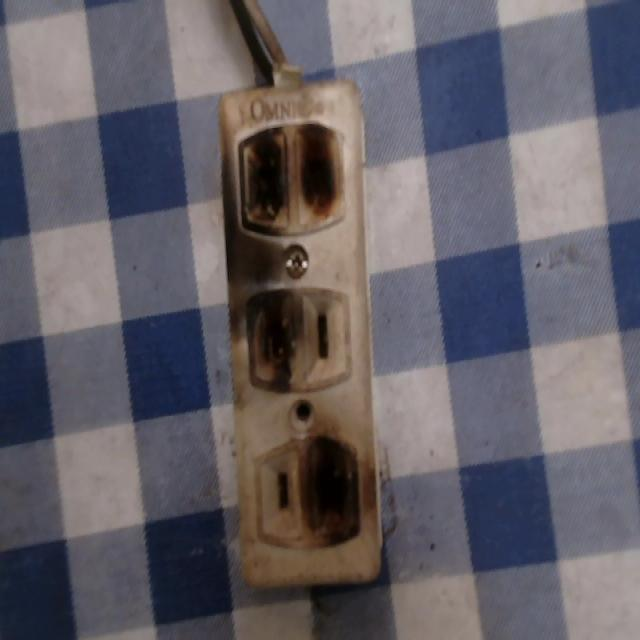-: (232, 121, 345, 231), (294, 427, 358, 541), (246, 286, 305, 386)
